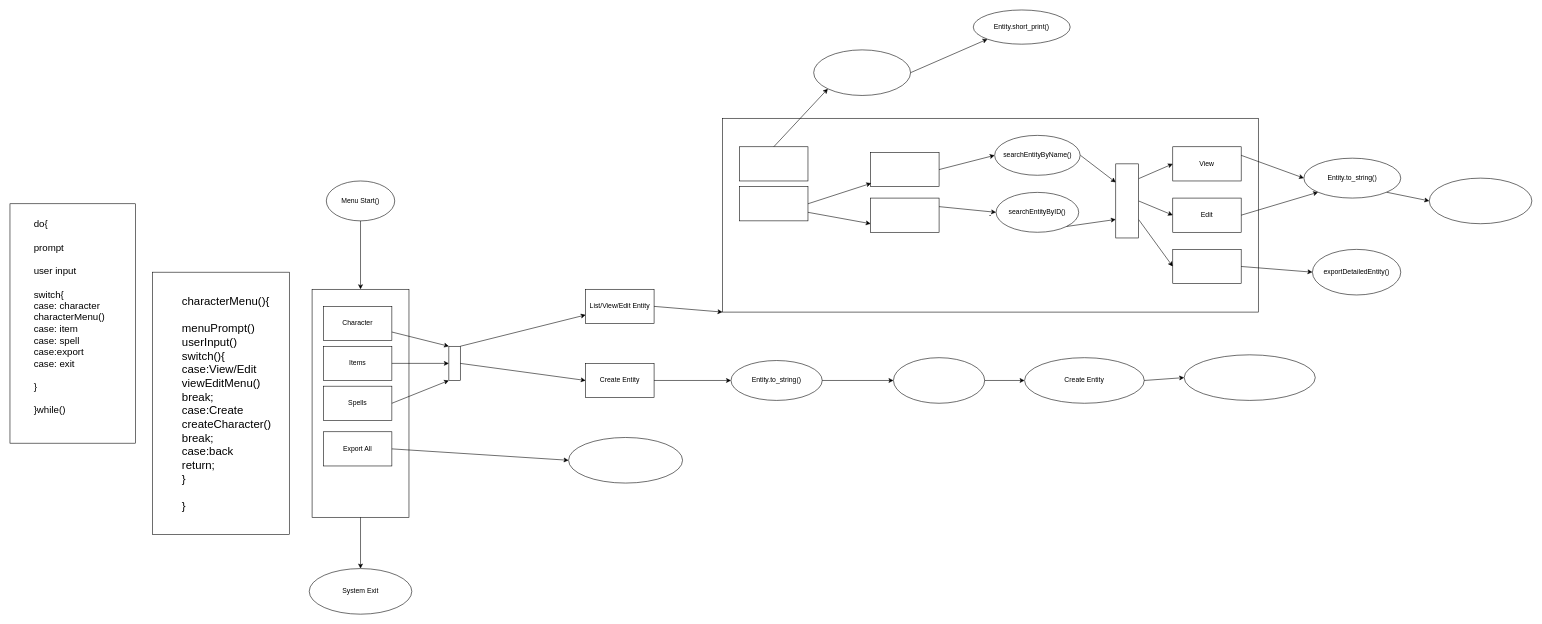
This 1542x624 diagram has some shape labels left out. Here are the shapes that lost their labels. From the top down, the box of each, then its label:
(813, 49, 911, 95): printEntityList()
(739, 146, 808, 181): View Whole List
(870, 152, 939, 187): ByName
(739, 186, 808, 221): Search Certain Entity
(870, 198, 939, 232): ByID
(1429, 178, 1532, 224): Entity.editEntity()
(1172, 249, 1241, 284): Export Entity
(893, 357, 985, 403): createEntityMenu()
(1184, 354, 1315, 400): Add to List
(568, 437, 683, 483): System.toExportFiles()
